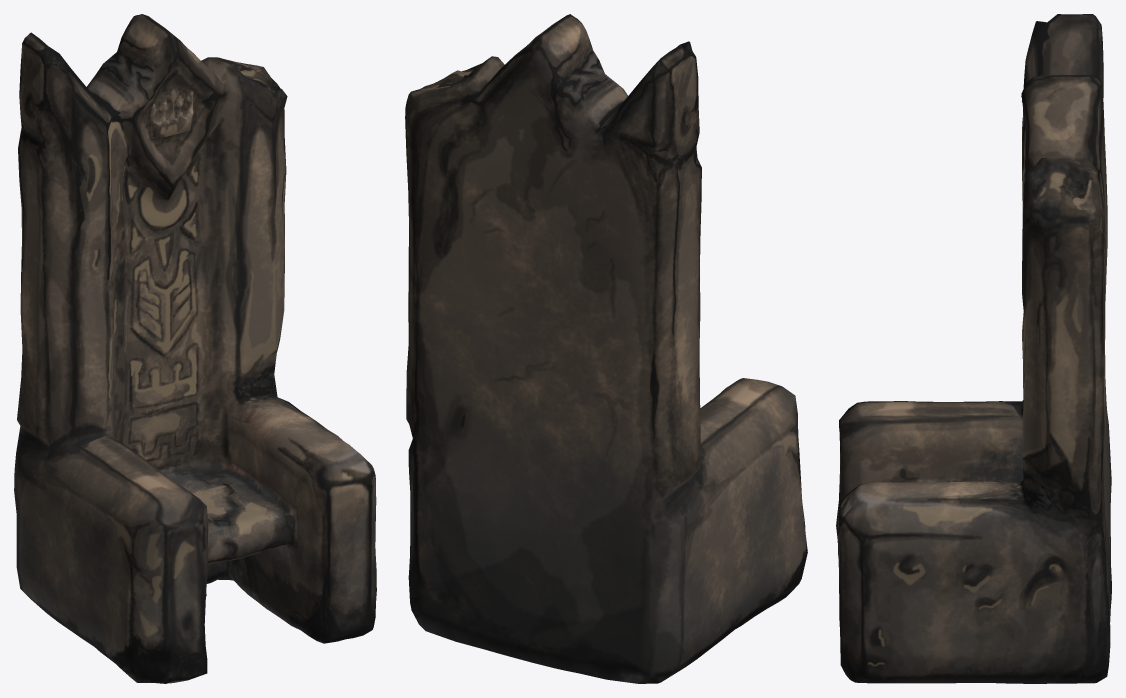
File: ThroneTextured.fbx
The picture shows the model from 3 angles, left to right: view 1: azimuth 30°, elevation 25°; view 2: azimuth 150°, elevation 25°; view 3: azimuth 270°, elevation 25°; orthographic projection. The views are drawn at different scales.
Parts seen in each view (by area): view 1: ThroneLP2.001; view 2: ThroneLP2.001; view 3: ThroneLP2.001.
Boxes of the visible parts, bbox=[...] form: ThroneLP2.001: bbox=[14, 14, 376, 683]; ThroneLP2.001: bbox=[405, 14, 807, 683]; ThroneLP2.001: bbox=[836, 14, 1111, 683].
Size of the model in its own units: 232 by 499 by 220.
